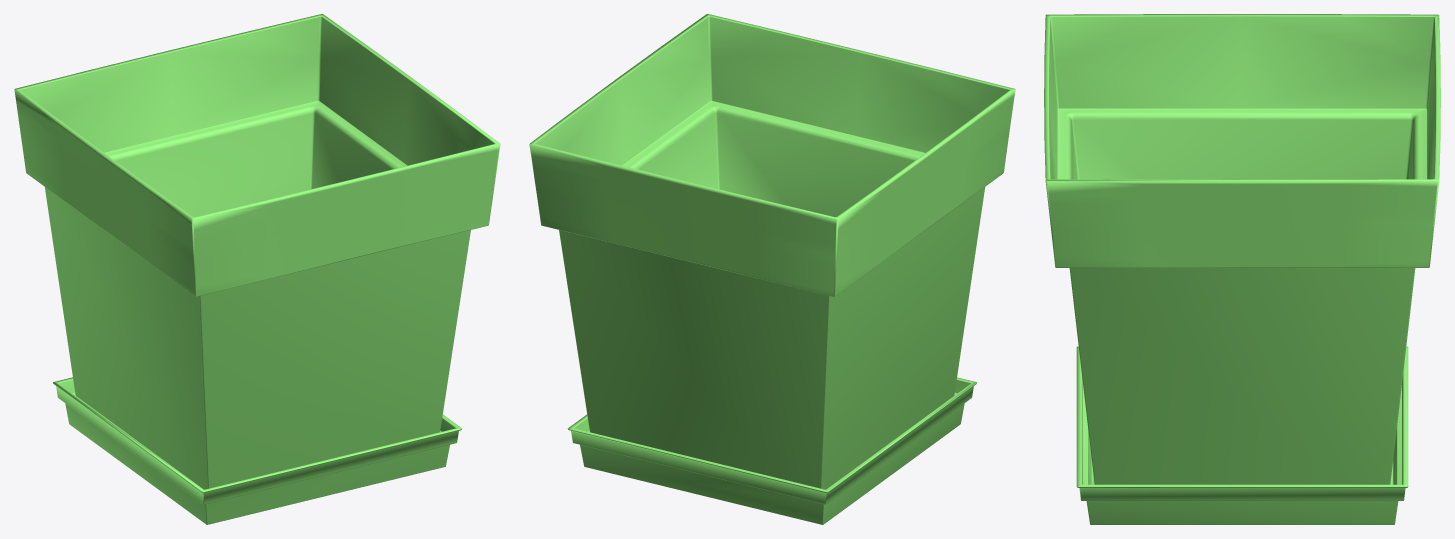
File: pot.glb
3 renders of one model, left to right at view 1: azimuth 30°, elevation 25°; view 2: azimuth 150°, elevation 25°; view 3: azimuth 270°, elevation 25°, orthographic. The views are drawn at different scales.
Visible parts, largest first — view 1: 38L; view 2: 38L; view 3: 38L.
Boxes of the visible parts, <box> form: 38L: <box>14,14,500,524</box>; 38L: <box>529,14,1015,524</box>; 38L: <box>1044,14,1440,524</box>.
Bounding box in the file's own units: 20.71 × 20.9 × 20.71.
